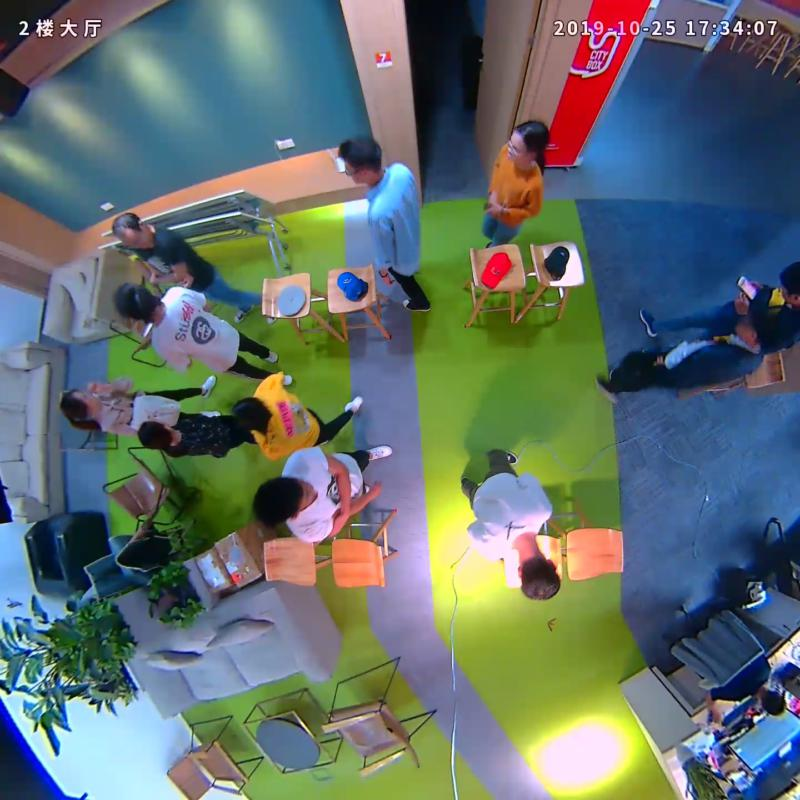head: (252, 477, 316, 527), (337, 136, 382, 185), (516, 555, 561, 600), (507, 119, 550, 162), (734, 308, 780, 347), (114, 282, 159, 321), (111, 213, 154, 250), (231, 397, 268, 432), (137, 419, 176, 450), (59, 388, 99, 416)
